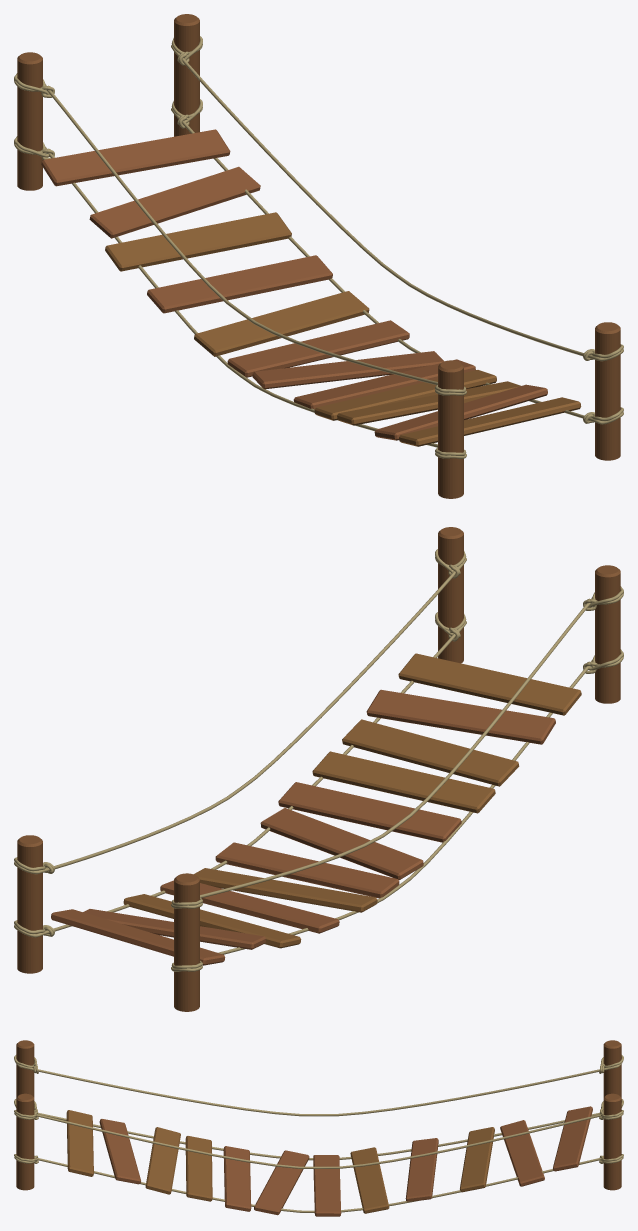
The model's file is bridge.fbx.
3 renders of one model, top to bottom at view 1: azimuth 30°, elevation 25°; view 2: azimuth 150°, elevation 25°; view 3: azimuth 270°, elevation 25°, orthographic. The views are drawn at different scales.
Parts seen in each view (by area): view 1: Cylinder, BezierCurve, Cube.012, Cube.010, Cube.009, Cube.011, Cube.008, Cube.007, Cube.006, BezierCurve.001, Cube.001, Cube.002 (+3 smaller); view 2: Cylinder, BezierCurve, Cube.002, Cube.001, Cube.003, Cube.004, Cube.005, Cube.006, Cube.007, Cube.008, BezierCurve.001, Cube.009 (+3 smaller); view 3: Cylinder, BezierCurve, BezierCurve.001, Cube.006, Cube.011, Cube.008, Cube.003, Cube.005, Cube.001, Cube.004, Cube.007, Cube.009 (+3 smaller).
Part boxes in pixels (x1,y1,x2,y2): Cylinder: (17,14,620,498); BezierCurve: (14,36,623,395); Cube.012: (41,129,230,186); Cube.010: (105,212,291,271); Cube.009: (147,255,332,313); Cube.011: (89,166,260,238); Cube.008: (194,291,369,356); Cube.007: (227,320,409,377); Cube.006: (252,351,443,389); BezierCurve.001: (14,99,623,458); Cube.001: (399,397,581,446); Cube.002: (374,384,547,440); Cylinder: (17,527,620,1011); BezierCurve: (14,549,623,908); Cube.002: (366,689,555,744); Cube.001: (398,653,581,715); Cube.003: (342,719,519,786); Cube.004: (312,751,495,813); Cube.005: (278,782,461,842); Cube.006: (260,808,423,880); Cube.007: (215,842,399,898); Cube.008: (194,868,377,912); BezierCurve.001: (14,612,623,971); Cube.009: (160,880,339,933); Cylinder: (16,1040,621,1190); BezierCurve: (14,1055,623,1168); BezierCurve.001: (14,1099,623,1212); Cube.006: (254,1150,309,1215); Cube.011: (500,1120,544,1186); Cube.008: (350,1147,389,1213); Cube.003: (145,1127,180,1194); Cube.005: (223,1146,251,1211); Cube.001: (66,1110,93,1176); Cube.004: (185,1136,212,1201); Cube.007: (313,1155,341,1216); Cube.009: (405,1138,438,1201).
Bounding box in the file's own units: 222 × 193 × 913.
